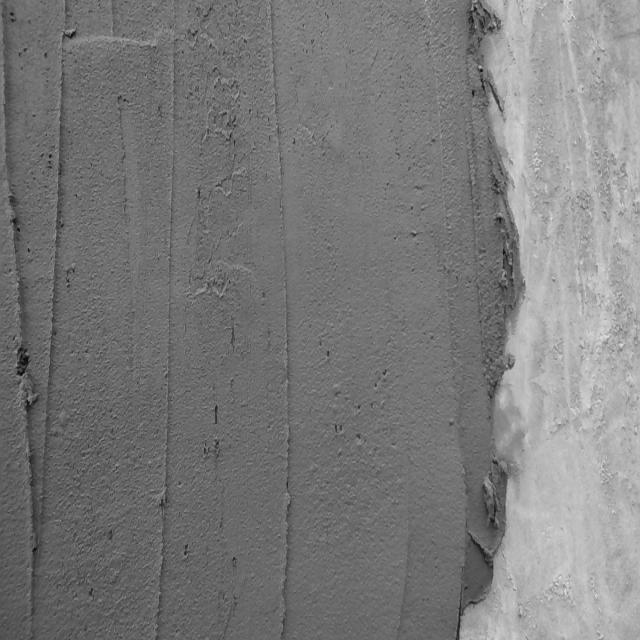trowels marks: (2, 0, 66, 640), (266, 4, 295, 640), (153, 27, 182, 640)
